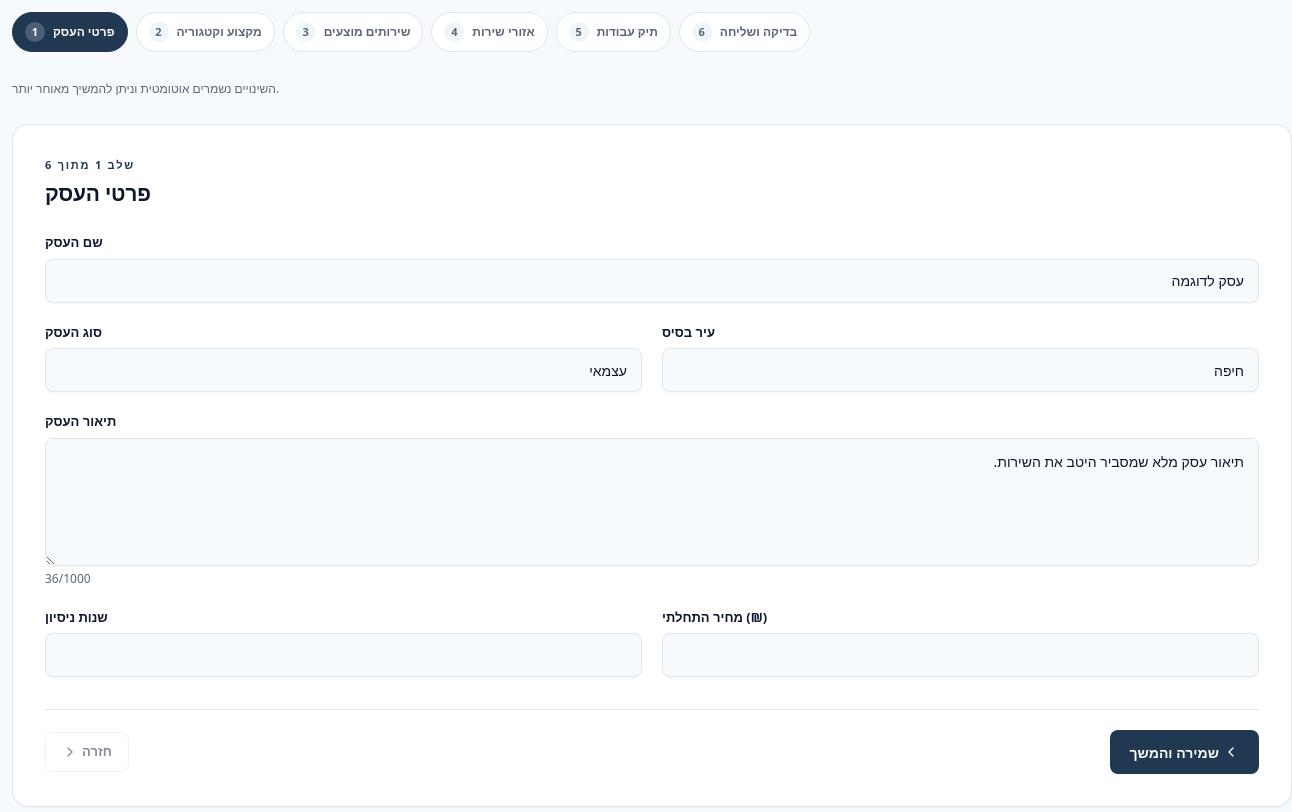
Scenario: SupplierOnboardingWizard stage validation › advances a valid stage-1 profile while stage-4 fields are unset
Click the button "שמירה והמשך". click: click(1184, 752)
box: [1110,730,1259,774]
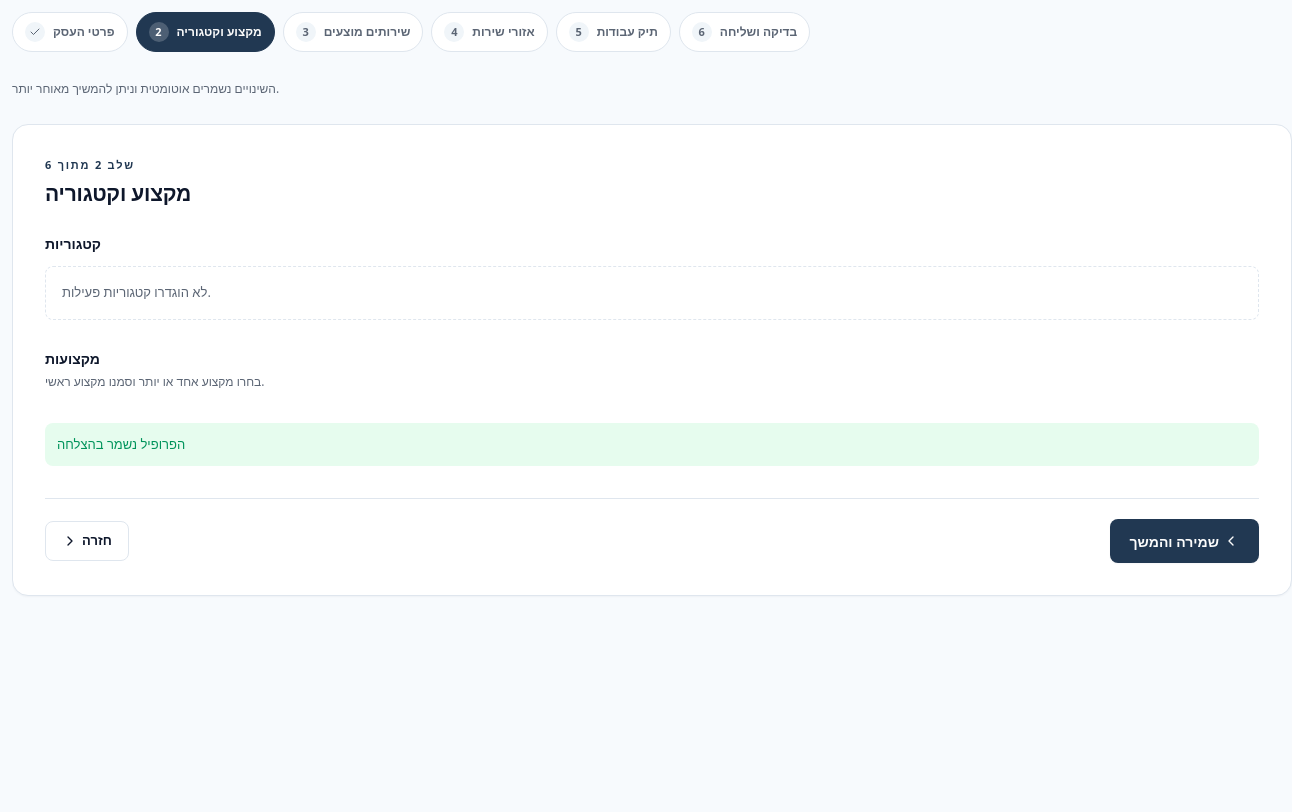
Expected: the heading "מקצוע וקטגוריה" is shown, [45,178,191,206]
